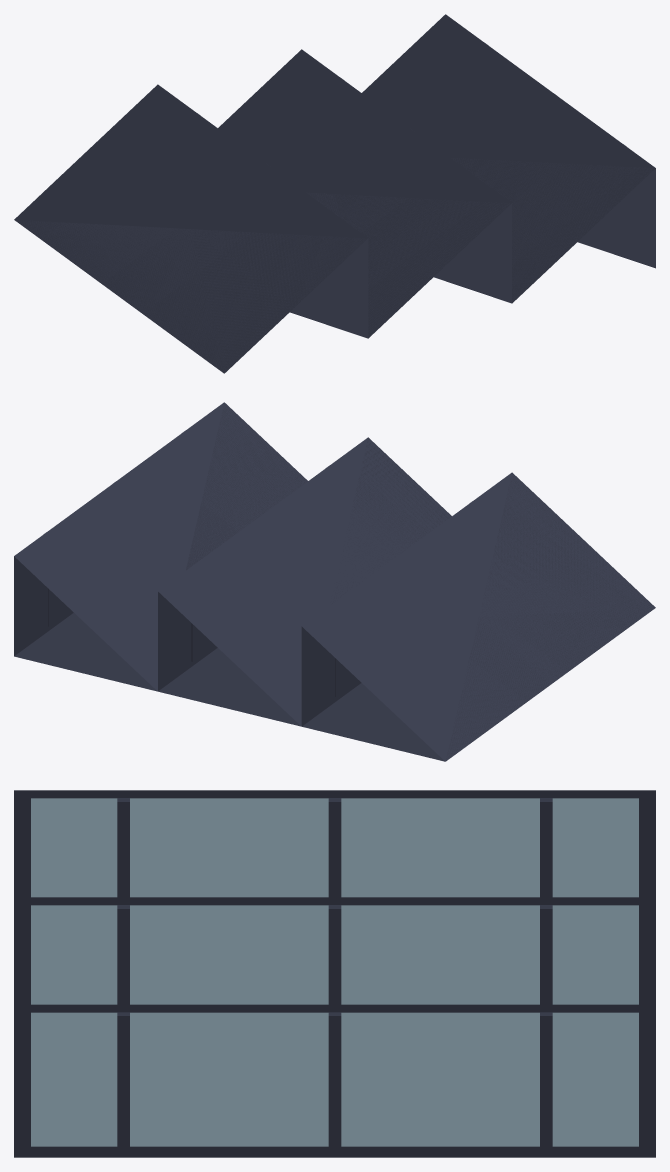
Rendered from roof_traditional_works_0.glb.
The picture shows the model from 3 angles, top to bottom: view 1: azimuth 30°, elevation 25°; view 2: azimuth 150°, elevation 25°; view 3: azimuth 270°, elevation 25°; orthographic projection. The views are drawn at different scales.
Parts seen in each view (by area): view 1: roof_traditional_works_0 steel; view 2: roof_traditional_works_0 steel, roof_traditional_works_0 ink; view 3: roof_traditional_works_0 glass, roof_traditional_works_0 steel, roof_traditional_works_0 ink.
Part boxes in pixels (x1,y1,x2,y2): roof_traditional_works_0 steel: (14,14,655,373); roof_traditional_works_0 steel: (14,402,655,761); roof_traditional_works_0 ink: (44,467,470,696); roof_traditional_works_0 glass: (31,798,638,1146); roof_traditional_works_0 steel: (14,790,655,1157); roof_traditional_works_0 ink: (117,798,552,1153).
Bounding box in the file's own units: 0.911 × 0.2 × 0.76.
